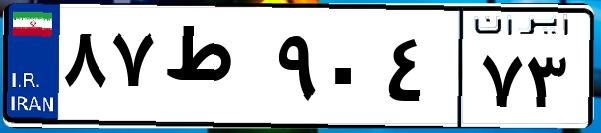0: (330, 28, 385, 110)
3: (525, 38, 570, 115)
4: (385, 28, 445, 110)
7: (475, 38, 525, 113), (110, 28, 158, 98)
8: (57, 26, 110, 100)
9: (270, 28, 330, 110)
ط: (158, 20, 270, 120)
